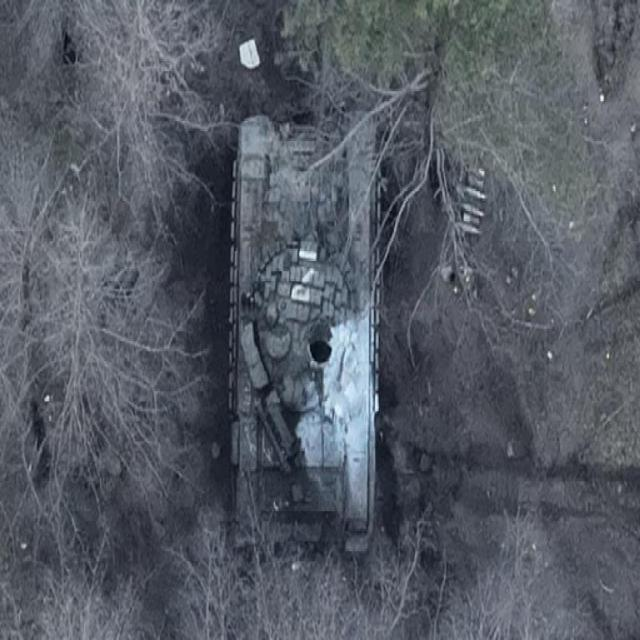TANK: (222, 11, 386, 571)
